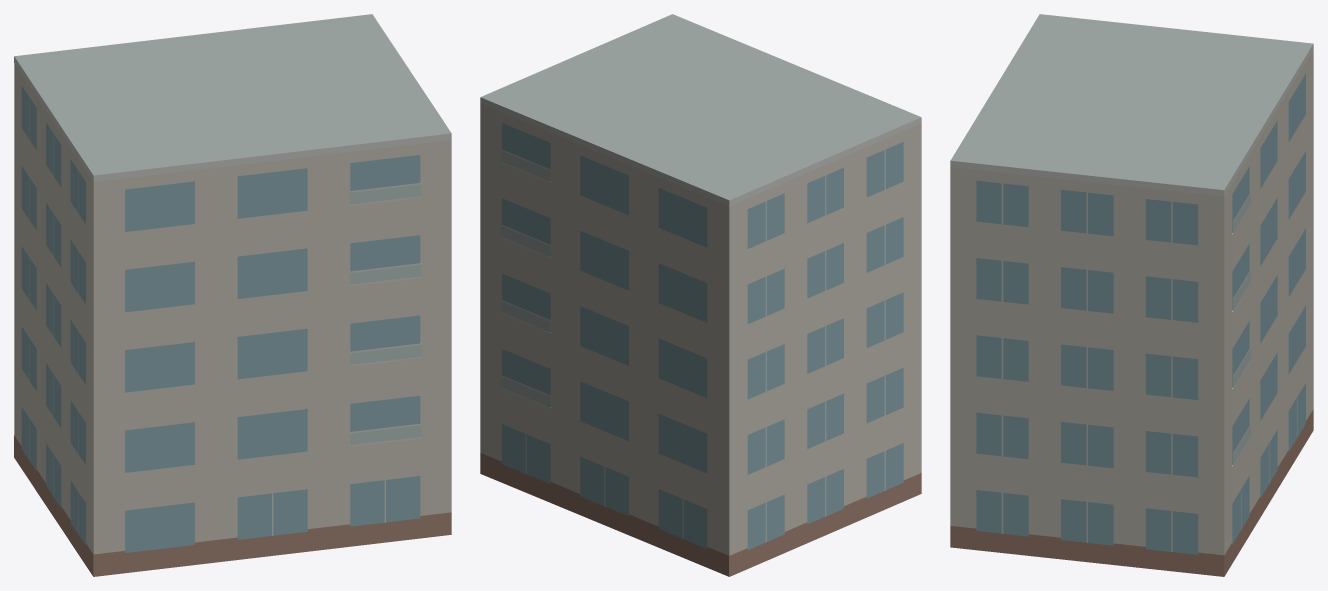
Rendered from survey-upis-32671791.glb.
3 views of the same model, side by side, from view 1: azimuth 30°, elevation 25°; view 2: azimuth 150°, elevation 25°; view 3: azimuth 270°, elevation 25° (orthographic). The views are drawn at different scales.
Visible parts, largest first — view 1: survey-upis-32671791.tmp; view 2: survey-upis-32671791.tmp; view 3: survey-upis-32671791.tmp.
Boxes of the visible parts, x1,y1,x2,y2 form: survey-upis-32671791.tmp: [14, 14, 451, 576]; survey-upis-32671791.tmp: [480, 14, 921, 576]; survey-upis-32671791.tmp: [950, 14, 1313, 576].
Size of the model in its own units: 14.57 by 14.9 by 12.69.
